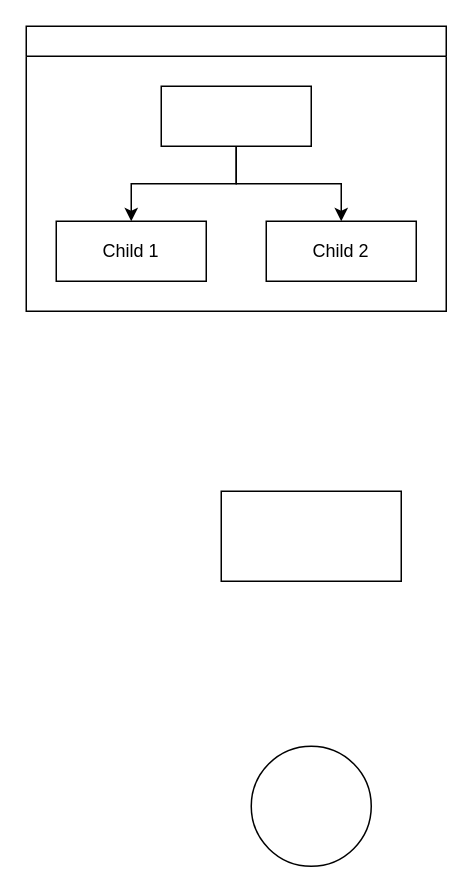
This 473x893 diagram has some shape labels left out. Each missing label, with the box of its shape:
Root: (160, 85, 311, 146)
Vertical Tree Layout: (25, 25, 446, 311)
